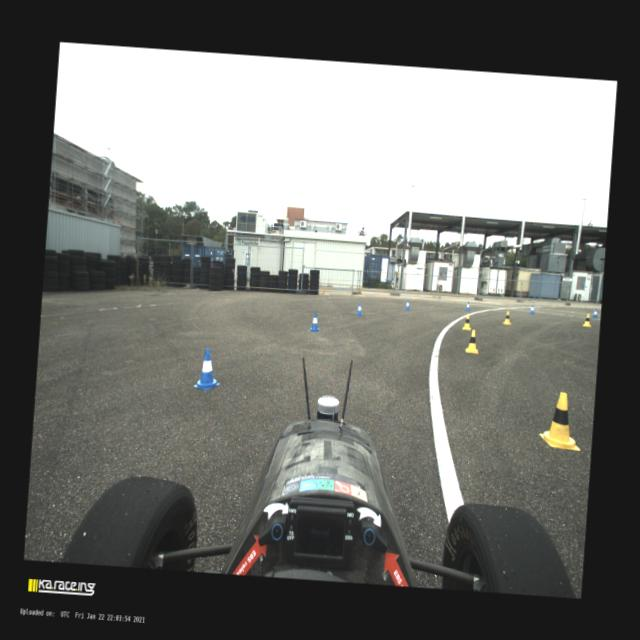blue_cone: (194, 348, 222, 390), (308, 311, 322, 331), (356, 302, 363, 315), (591, 308, 598, 318), (404, 299, 410, 310), (529, 304, 535, 314), (465, 300, 470, 310)
yellow_cone: (538, 391, 584, 450), (464, 329, 480, 353), (462, 313, 472, 330), (502, 310, 512, 324), (582, 313, 591, 326)
